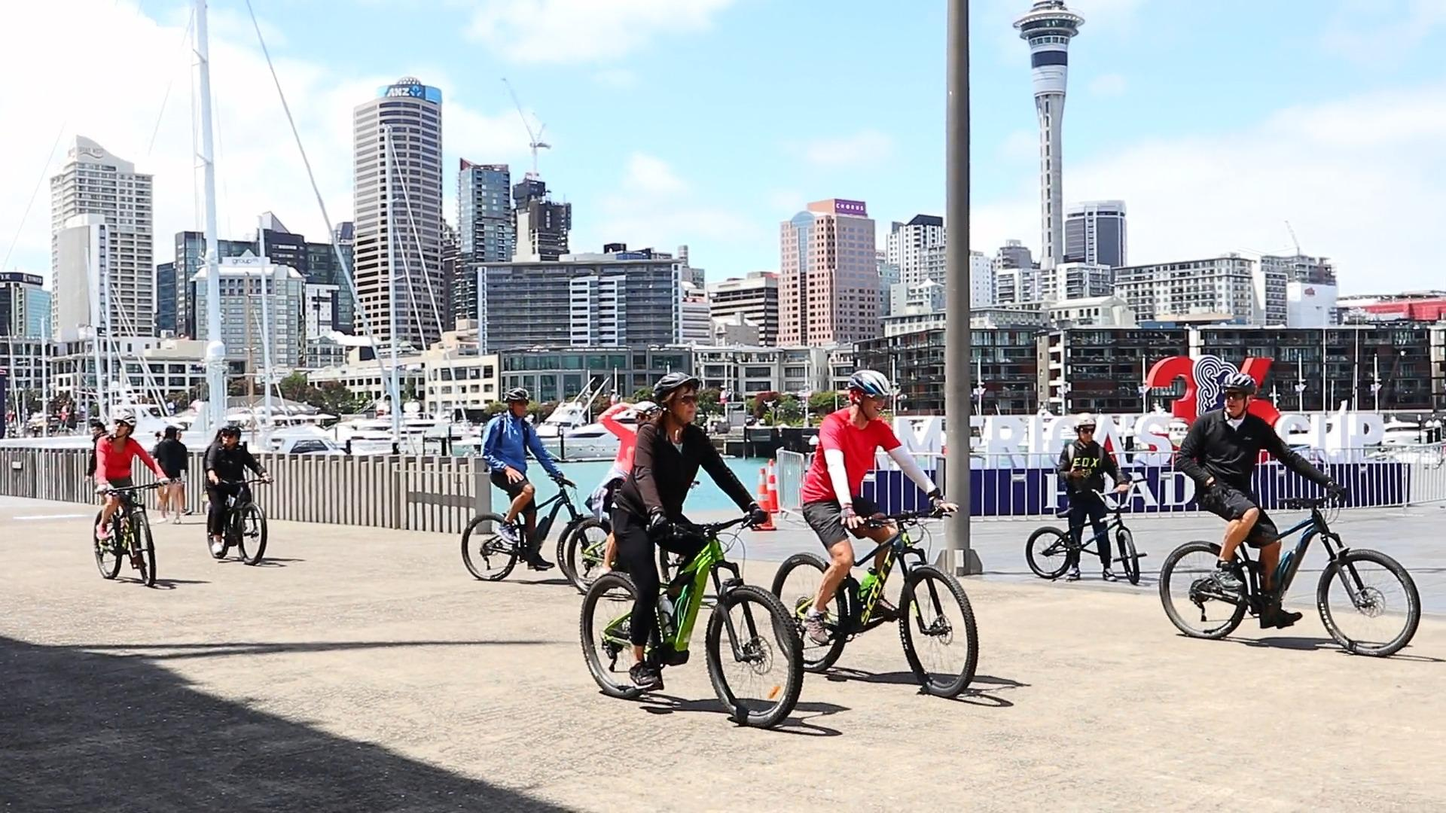bicyclist: (578, 371, 804, 729), (1159, 373, 1421, 657), (771, 370, 978, 696), (462, 387, 619, 588), (92, 410, 174, 587), (205, 425, 274, 565)
helmet: (652, 371, 700, 427), (845, 370, 891, 423), (1220, 374, 1258, 422), (1073, 412, 1097, 447), (504, 388, 530, 419), (113, 410, 137, 439)
